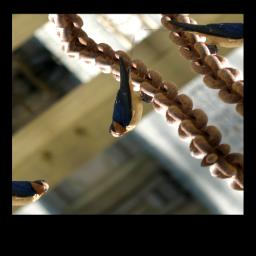Swallow: (62, 34, 190, 142)
